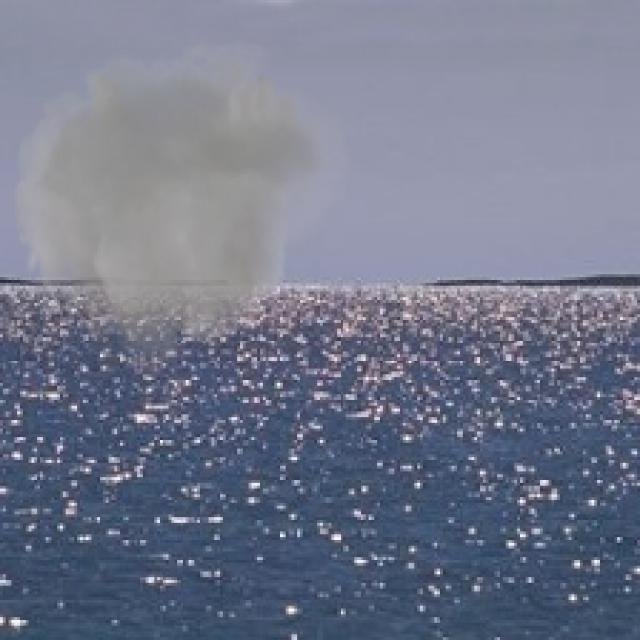smoke: (6, 26, 354, 388)
